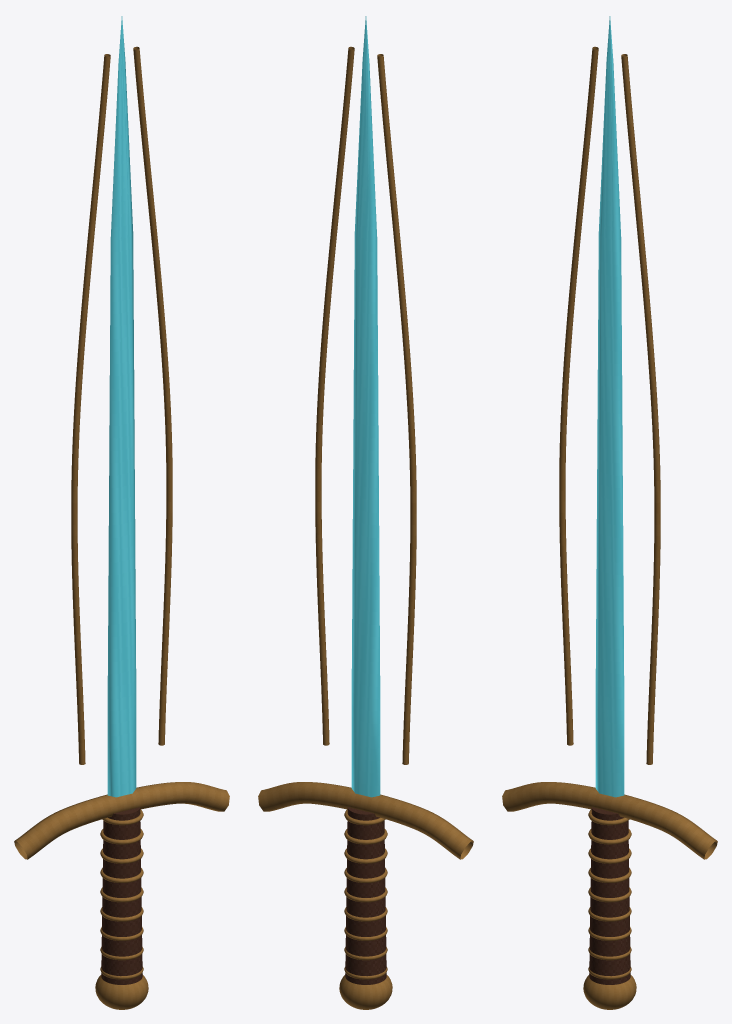
File: light-blade.glb
3 renders of one model, left to right at view 1: azimuth 30°, elevation 25°; view 2: azimuth 150°, elevation 25°; view 3: azimuth 330°, elevation 25°, orthographic.
Parts seen in each view (by area): view 1: blade, leather.0, brass.12, brass.11, brass.13, brass.10; view 2: blade, leather.0, brass.12, brass.11, brass.13, brass.10; view 3: blade, leather.0, brass.13, brass.11, brass.12, brass.10.
Part boxes in pixels (x1=…): blade: x1=107, y1=16, x2=136, y2=797; leather.0: x1=101, y1=807, x2=142, y2=984; brass.12: x1=71, y1=54, x2=110, y2=764; brass.11: x1=14, y1=782, x2=229, y2=859; brass.13: x1=133, y1=46, x2=172, y2=745; brass.10: x1=95, y1=974, x2=148, y2=1009; blade: x1=351, y1=16, x2=380, y2=797; leather.0: x1=345, y1=807, x2=386, y2=984; brass.12: x1=377, y1=54, x2=416, y2=764; brass.11: x1=258, y1=782, x2=473, y2=859; brass.13: x1=315, y1=46, x2=354, y2=745; brass.10: x1=339, y1=974, x2=392, y2=1009; blade: x1=595, y1=16, x2=624, y2=797; leather.0: x1=589, y1=807, x2=630, y2=984; brass.13: x1=621, y1=54, x2=660, y2=764; brass.11: x1=502, y1=782, x2=717, y2=859; brass.12: x1=559, y1=46, x2=598, y2=745; brass.10: x1=583, y1=974, x2=636, y2=1009.
Size of the model in its own units: 0.2908 by 1.31 by 0.064.
3 materials, 3 textured.
